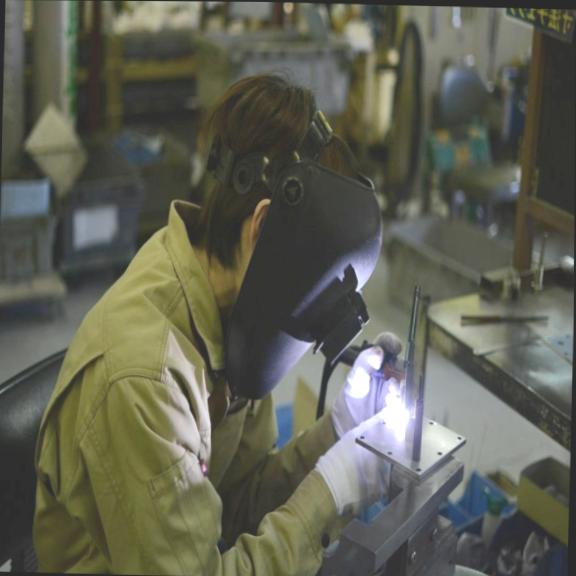no_safety_vest: (34, 191, 279, 575)
